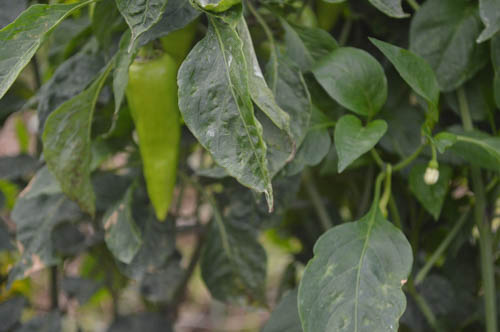ChiliPepper: (126, 57, 181, 226)
